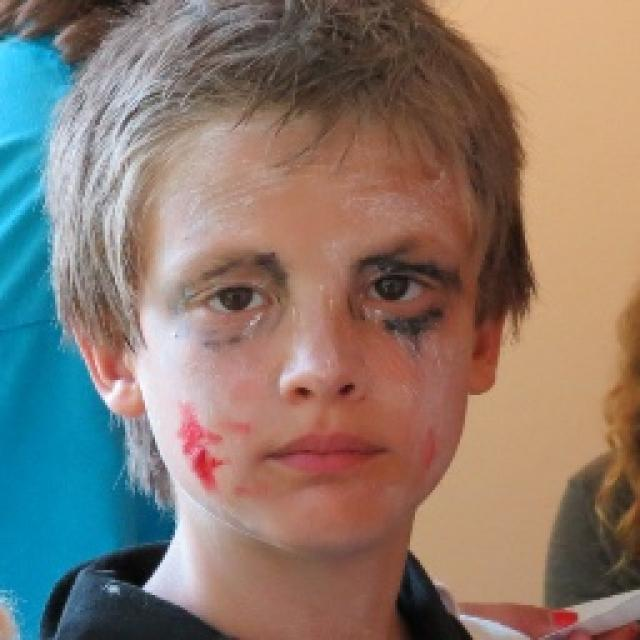earlobe: (100, 388, 152, 418), (466, 365, 498, 397)
eye: (192, 283, 276, 315), (360, 274, 441, 306)
nose: (284, 389, 364, 422)
wholeear: (55, 272, 146, 419), (471, 259, 516, 397)
